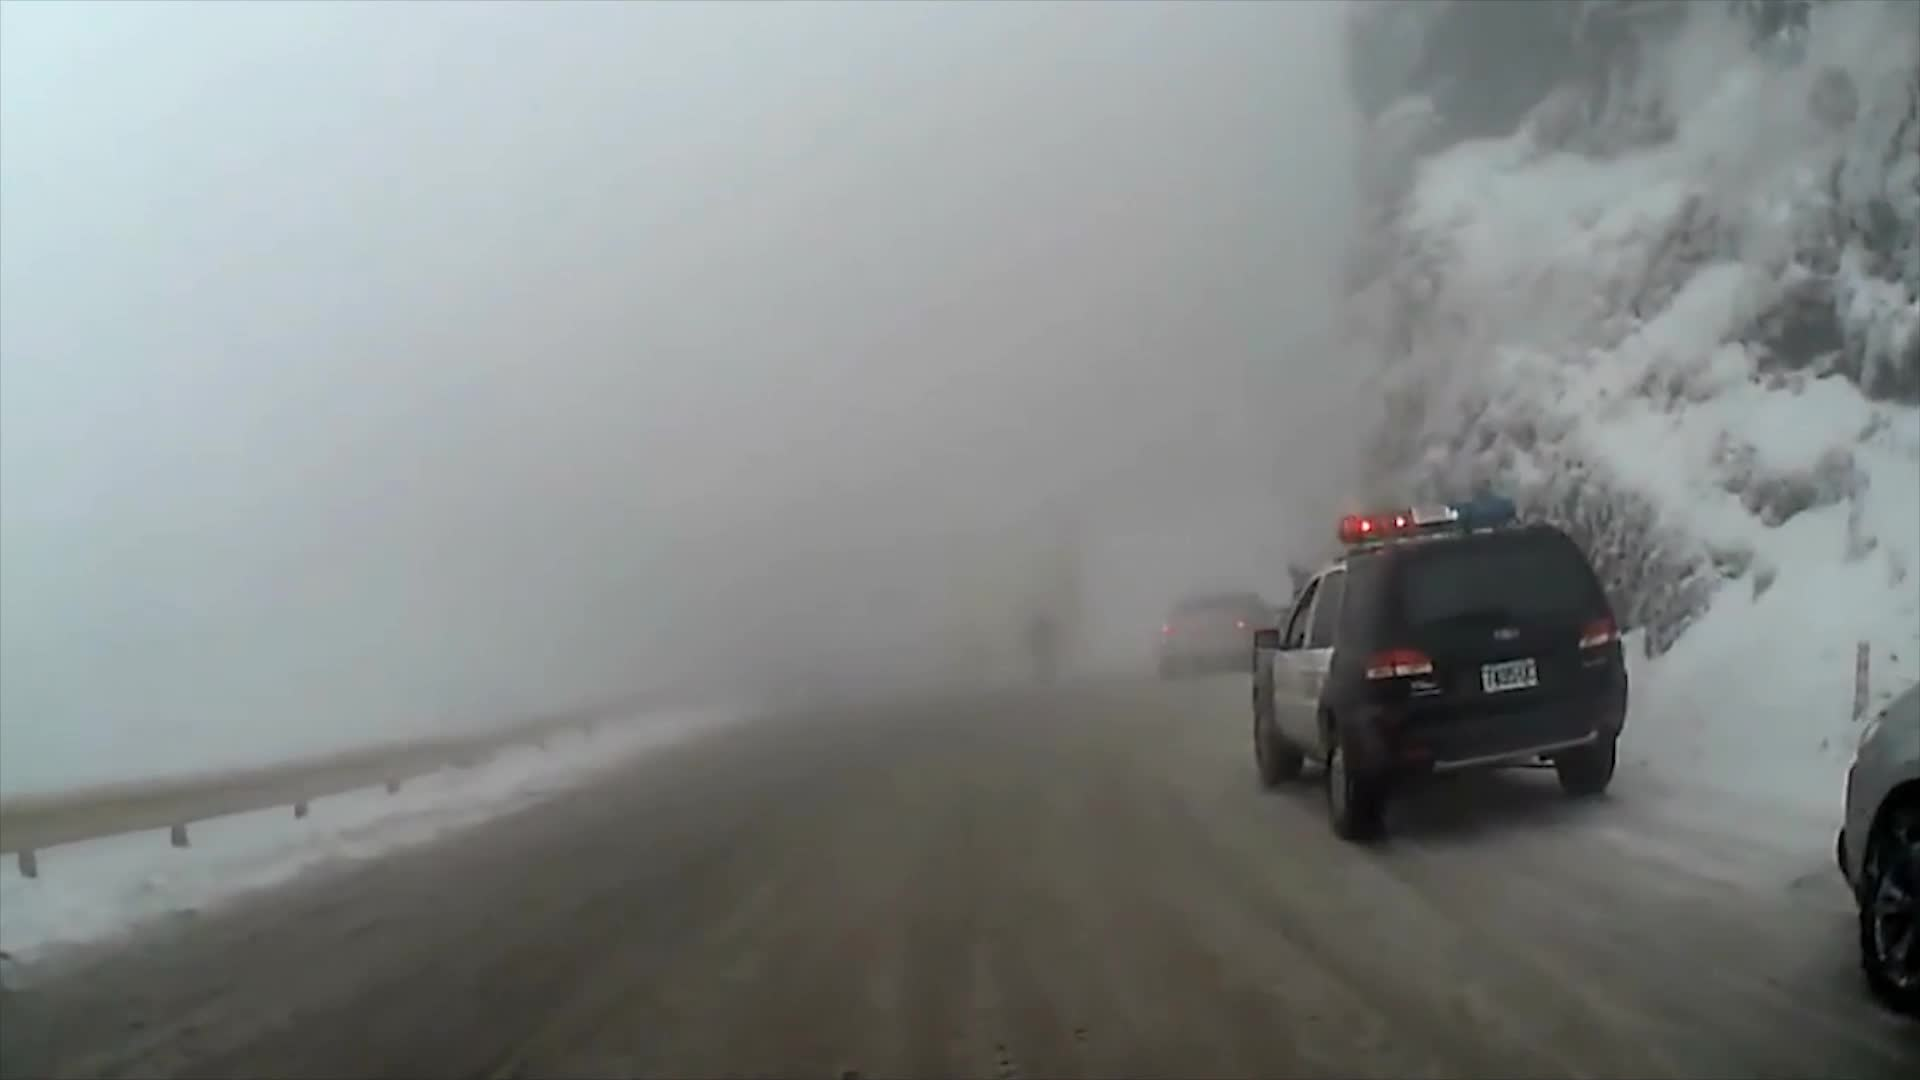vehicle: (1249, 492, 1630, 843), (1832, 700, 1920, 1011), (1156, 585, 1280, 676)
